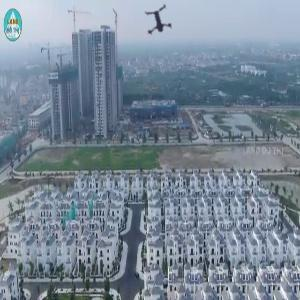drone: (140, 5, 182, 47)
